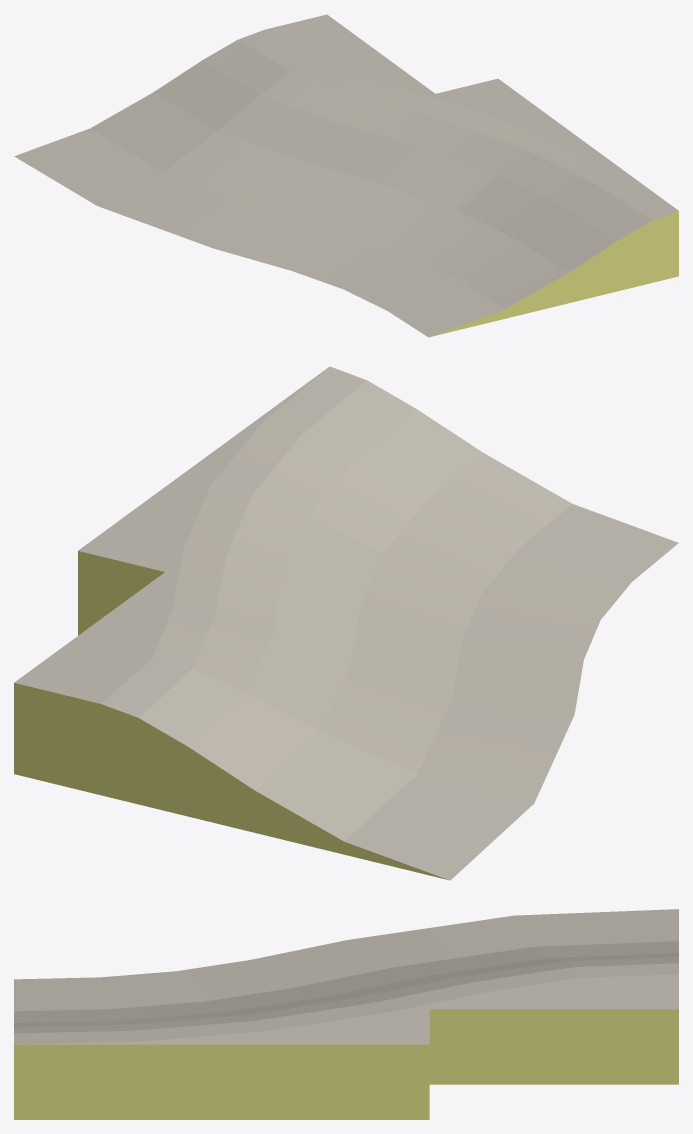
The model's file is Floor_Esse_6x8.glb.
The picture shows the model from 3 angles, top to bottom: view 1: azimuth 30°, elevation 25°; view 2: azimuth 150°, elevation 25°; view 3: azimuth 270°, elevation 25°; orthographic projection. The views are drawn at different scales.
Visible parts, largest first — view 1: Floor_Esse_6x8; view 2: Floor_Esse_6x8; view 3: Floor_Esse_6x8.
Boxes of the visible parts, x1=… form: Floor_Esse_6x8: x1=14, y1=14, x2=678, y2=337; Floor_Esse_6x8: x1=14, y1=366, x2=678, y2=880; Floor_Esse_6x8: x1=14, y1=909, x2=678, y2=1119.
Bounding box in the file's own units: 600 × 100 × 800.
